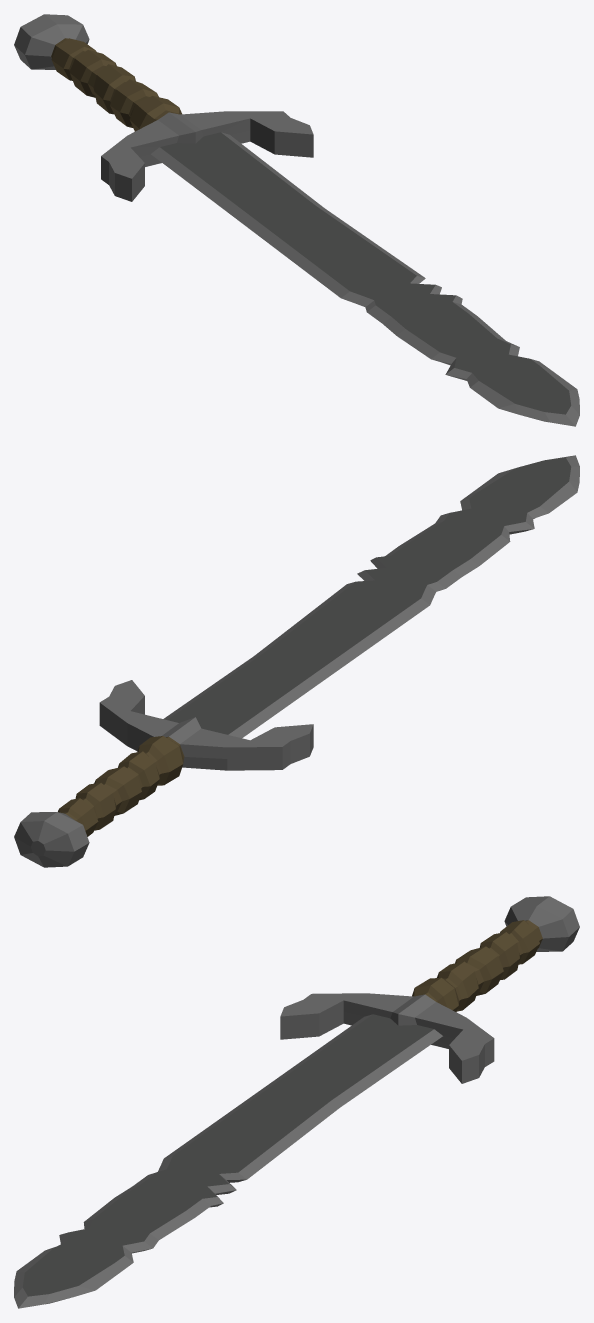
Rendered from sword.gltf.
3 renders of one model, top to bottom at view 1: azimuth 30°, elevation 25°; view 2: azimuth 150°, elevation 25°; view 3: azimuth 330°, elevation 25°, orthographic.
Visible parts, largest first — view 1: Sword; view 2: Sword; view 3: Sword.
Boxes of the visible parts, x1,y1,x2,y2 form: Sword: [14, 14, 579, 426]; Sword: [14, 455, 579, 867]; Sword: [14, 896, 579, 1308].
Size of the model in its own units: 0.1815 by 0.0415 by 0.8666.
